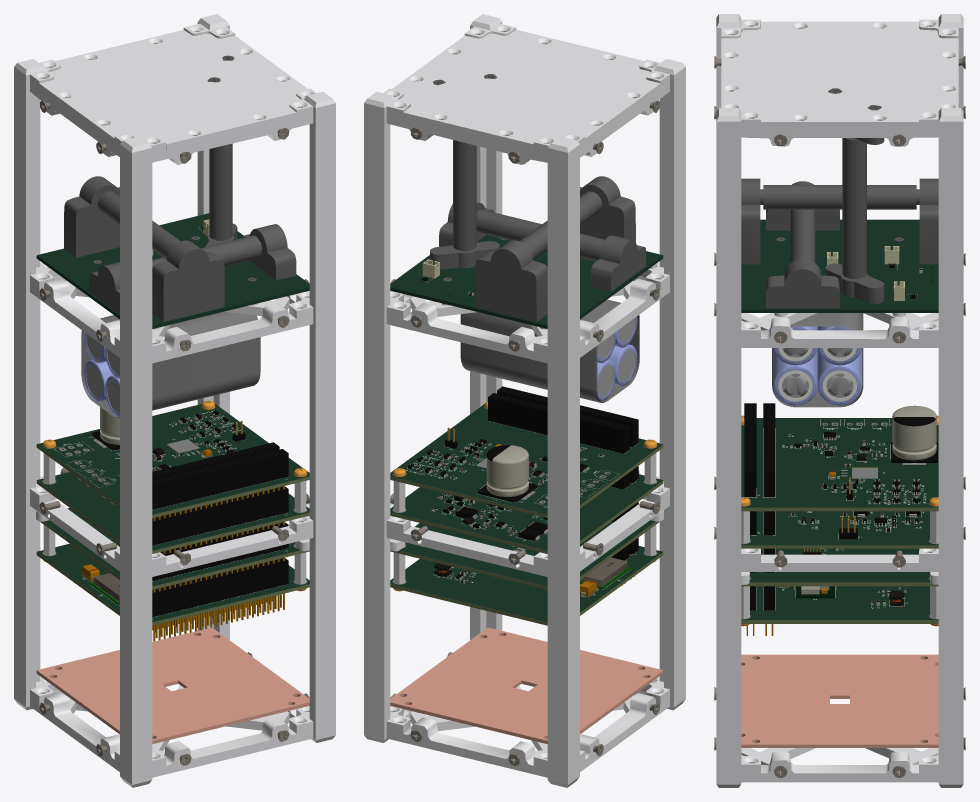
Rendered from pixelsat.glb.
3 views of the same model, side by side, from view 1: azimuth 30°, elevation 25°; view 2: azimuth 150°, elevation 25°; view 3: azimuth 270°, elevation 25° (orthographic). The views are drawn at different scales.
Visible parts, largest first — view 1: frame, torquers, power, antenna, comms, battery, mppt, obc; view 2: frame, torquers, power, antenna, mppt, comms, battery, obc; view 3: frame, torquers, power, antenna, comms, mppt, battery, obc.
Boxes of the visible parts, x1,y1,x2,y2 form: frame: (14, 14, 335, 787); torquers: (36, 55, 309, 328); power: (36, 404, 309, 520); antenna: (36, 627, 309, 743); comms: (36, 543, 309, 641); battery: (81, 312, 260, 418); mppt: (36, 472, 309, 554); obc: (40, 508, 309, 592); frame: (364, 14, 685, 787); torquers: (390, 74, 663, 328); power: (390, 386, 663, 517); antenna: (390, 627, 663, 743); mppt: (390, 466, 663, 553); comms: (390, 537, 663, 625); battery: (460, 299, 639, 402); obc: (390, 502, 659, 589); frame: (714, 14, 965, 787); torquers: (741, 88, 938, 312); power: (741, 403, 938, 511); antenna: (741, 654, 938, 747); comms: (741, 586, 938, 635); mppt: (741, 511, 938, 548); battery: (772, 313, 863, 407); obc: (741, 548, 938, 586).
Bounding box in the file's own units: 102 × 300 × 102.
